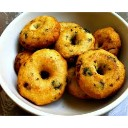vada: (19, 48, 67, 103), (77, 49, 126, 98), (57, 20, 95, 59), (16, 17, 59, 48), (93, 25, 120, 57)
